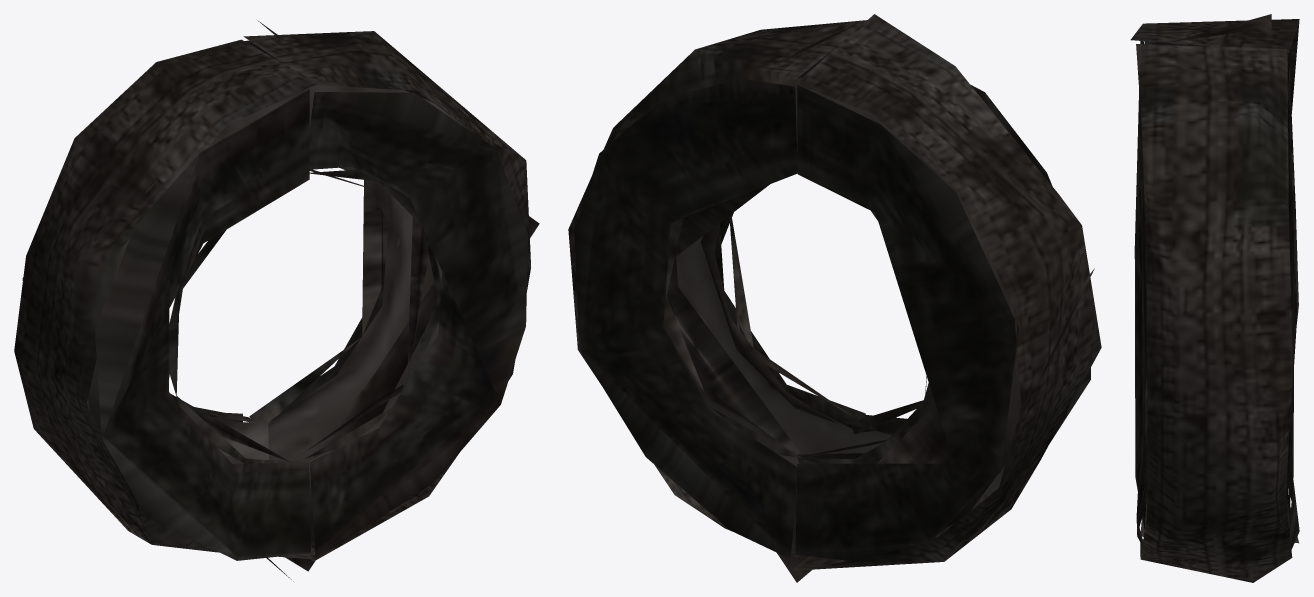
The model's file is pneu.glb.
3 renders of one model, left to right at view 1: azimuth 30°, elevation 25°; view 2: azimuth 150°, elevation 25°; view 3: azimuth 270°, elevation 25°, orthographic. The views are drawn at different scales.
Visible parts, largest first — view 1: Malha; view 2: Malha; view 3: Malha.
Boxes of the visible parts, box(x1,y1,x2,y2) form: Malha: box(14, 21, 539, 581); Malha: box(568, 14, 1101, 582); Malha: box(1130, 14, 1299, 582).
Size of the model in its own units: 0.5865 by 0.6342 by 0.1771.
Materials: 1 (1 with a texture image).
